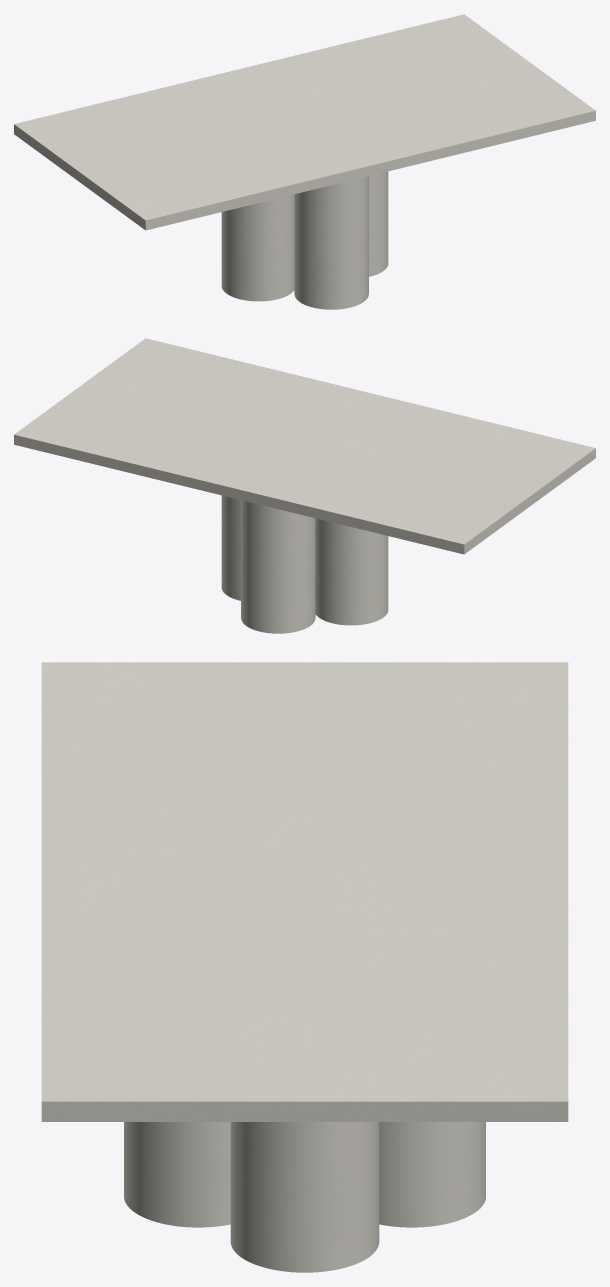
File: pale_recta_standard_secondtable.glb
3 renders of one model, top to bottom at view 1: azimuth 30°, elevation 25°; view 2: azimuth 150°, elevation 25°; view 3: azimuth 270°, elevation 25°, orthographic. The views are drawn at different scales.
Parts seen in each view (by area): view 1: standard_recta, secondtable; view 2: standard_recta, secondtable; view 3: standard_recta, secondtable.
Part boxes in pixels (left/top/right/bottom): standard_recta: left=14, top=14, right=595, bottom=230; secondtable: left=221, top=171, right=388, bottom=309; standard_recta: left=14, top=338, right=595, bottom=554; secondtable: left=221, top=495, right=388, bottom=633; standard_recta: left=41, top=662, right=568, bottom=1121; secondtable: left=124, top=1122, right=485, bottom=1272.
Bounding box in the file's own units: 7.5 × 2.5 × 3.8.
1 material, 1 textured.
